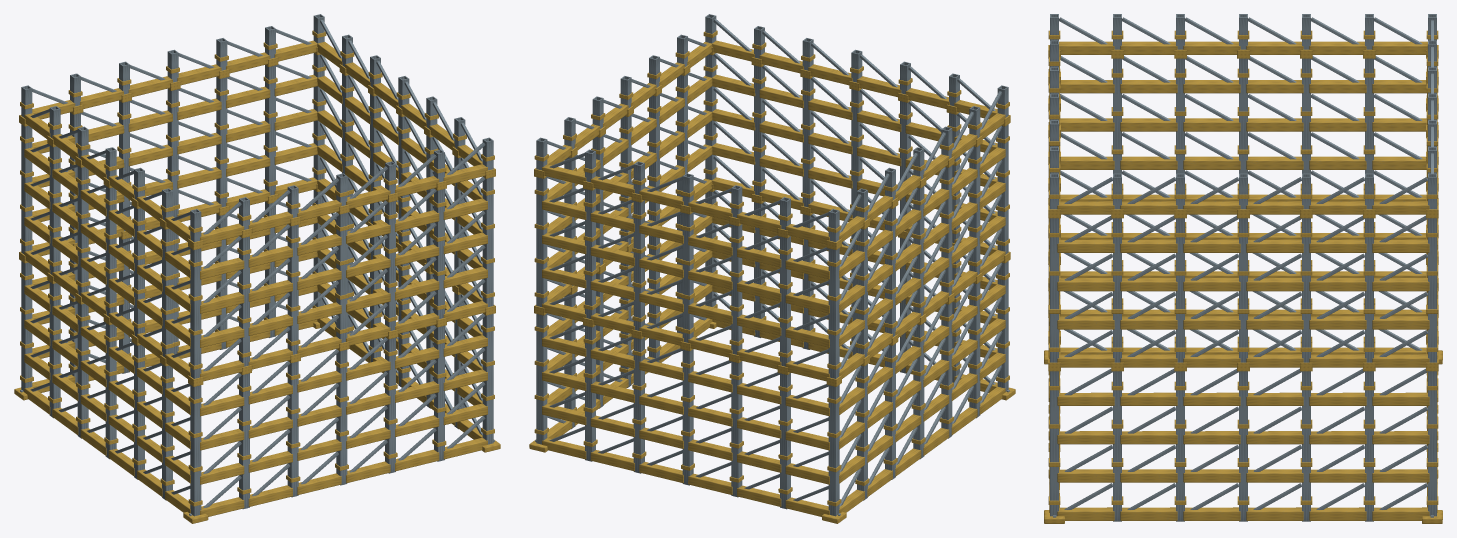
The picture shows the model from 3 angles, left to right: view 1: azimuth 30°, elevation 25°; view 2: azimuth 150°, elevation 25°; view 3: azimuth 270°, elevation 25°; orthographic projection. The views are drawn at different scales.
Parts seen in each view (by area): view 1: Tier 0 side 0 post 0, Tier 1 side 0 post 0, Tier 1 side 2 post 2, Tier 0 side 0 post 3, Tier 0 side 0 post 2, Tier 0 side 1 post 0, Tier 1 side 1 post 0, Tier 1 side 0 post 3, Tier 1 side 0 post 2, Tier 0 side 0 post 5, Tier 1 side 2 post 1, Tier 0 side 0 post 1 (+32 smaller); view 2: Tier 0 side 3 post 0, Tier 1 side 3 post 0, Tier 0 side 2 post 2, Tier 0 side 2 post 4, Tier 0 side 2 post 0, Tier 1 side 2 post 0, Tier 0 side 2 post 3, Tier 1 side 2 post 2, Tier 1 side 2 post 4, Tier 1 side 2 post 3, Tier 1 side 0 post 4, Tier 0 side 2 post 1 (+34 smaller); view 3: Tier 0 side 1 post 1, Tier 0 side 1 post 2, Tier 0 side 1 post 3, Tier 0 side 1 post 4, Tier 0 side 1 post 5, Tier 0 side 1 post 0, Tier 0 side 2 post 0, Tier 1 side 1 post 0, Tier 1 side 2 post 0, Tier 1 side 1 post 1, Tier 1 side 1 post 2, Tier 1 side 1 post 3 (+85 smaller).
Boxes of the visible parts, x1,y1,x2,y2 form: Tier 0 side 0 post 0: (190, 385, 201, 516); Tier 1 side 0 post 0: (190, 248, 201, 378); Tier 1 side 2 post 2: (216, 77, 227, 207); Tier 0 side 0 post 3: (336, 349, 347, 485); Tier 0 side 0 post 2: (287, 361, 298, 497); Tier 0 side 1 post 0: (482, 314, 493, 444); Tier 1 side 1 post 0: (482, 177, 493, 307); Tier 1 side 0 post 3: (336, 213, 347, 342); Tier 1 side 0 post 2: (287, 224, 298, 354); Tier 0 side 0 post 5: (434, 326, 444, 461); Tier 1 side 2 post 1: (265, 65, 275, 195); Tier 0 side 0 post 1: (239, 373, 249, 509); Tier 0 side 3 post 0: (828, 385, 839, 516); Tier 1 side 3 post 0: (828, 248, 839, 378); Tier 0 side 2 post 2: (633, 337, 644, 473); Tier 0 side 2 post 4: (731, 361, 742, 497); Tier 0 side 2 post 0: (536, 313, 547, 444); Tier 1 side 2 post 0: (536, 177, 547, 307); Tier 0 side 2 post 3: (682, 349, 693, 485); Tier 1 side 2 post 2: (633, 200, 644, 330); Tier 1 side 2 post 4: (731, 224, 742, 354); Tier 1 side 2 post 3: (682, 212, 693, 342); Tier 1 side 0 post 4: (802, 77, 813, 207); Tier 0 side 2 post 1: (585, 325, 595, 461); Tier 0 side 1 post 1: (1113, 371, 1121, 521); Tier 0 side 1 post 2: (1176, 371, 1184, 521); Tier 0 side 1 post 3: (1239, 371, 1247, 521); Tier 0 side 1 post 4: (1302, 371, 1310, 521); Tier 0 side 1 post 5: (1365, 371, 1373, 521); Tier 0 side 1 post 0: (1050, 371, 1058, 516); Tier 0 side 2 post 0: (1428, 371, 1436, 516); Tier 1 side 1 post 0: (1050, 218, 1058, 362); Tier 1 side 2 post 0: (1428, 218, 1436, 362); Tier 1 side 1 post 1: (1113, 218, 1121, 362); Tier 1 side 1 post 2: (1176, 218, 1184, 362); Tier 1 side 1 post 3: (1239, 218, 1247, 362).
Size of the model in its own units: 2.85 by 2.72 by 2.85.
2 materials, 2 textured.
